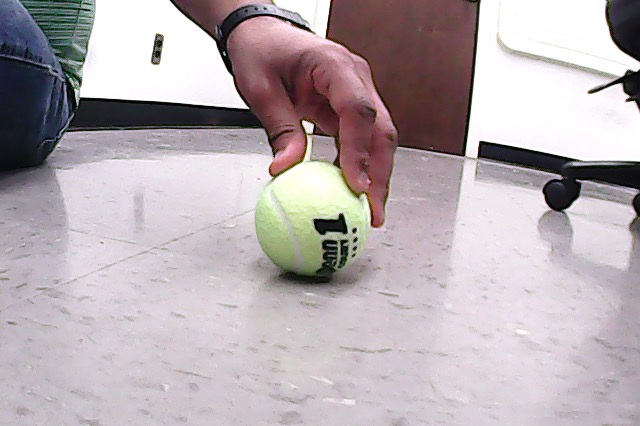ball: (250, 157, 374, 281)
